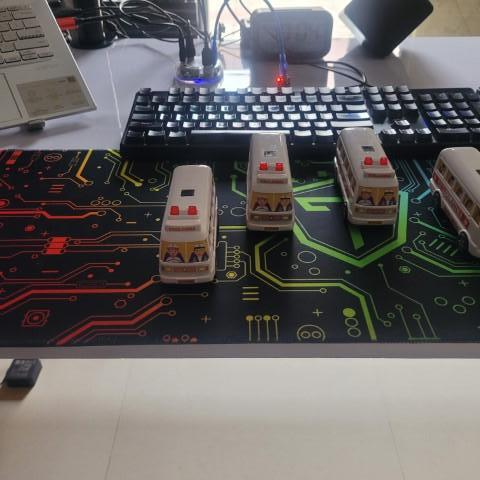ambulance: (152, 161, 223, 289), (329, 125, 402, 229), (243, 124, 297, 237)
